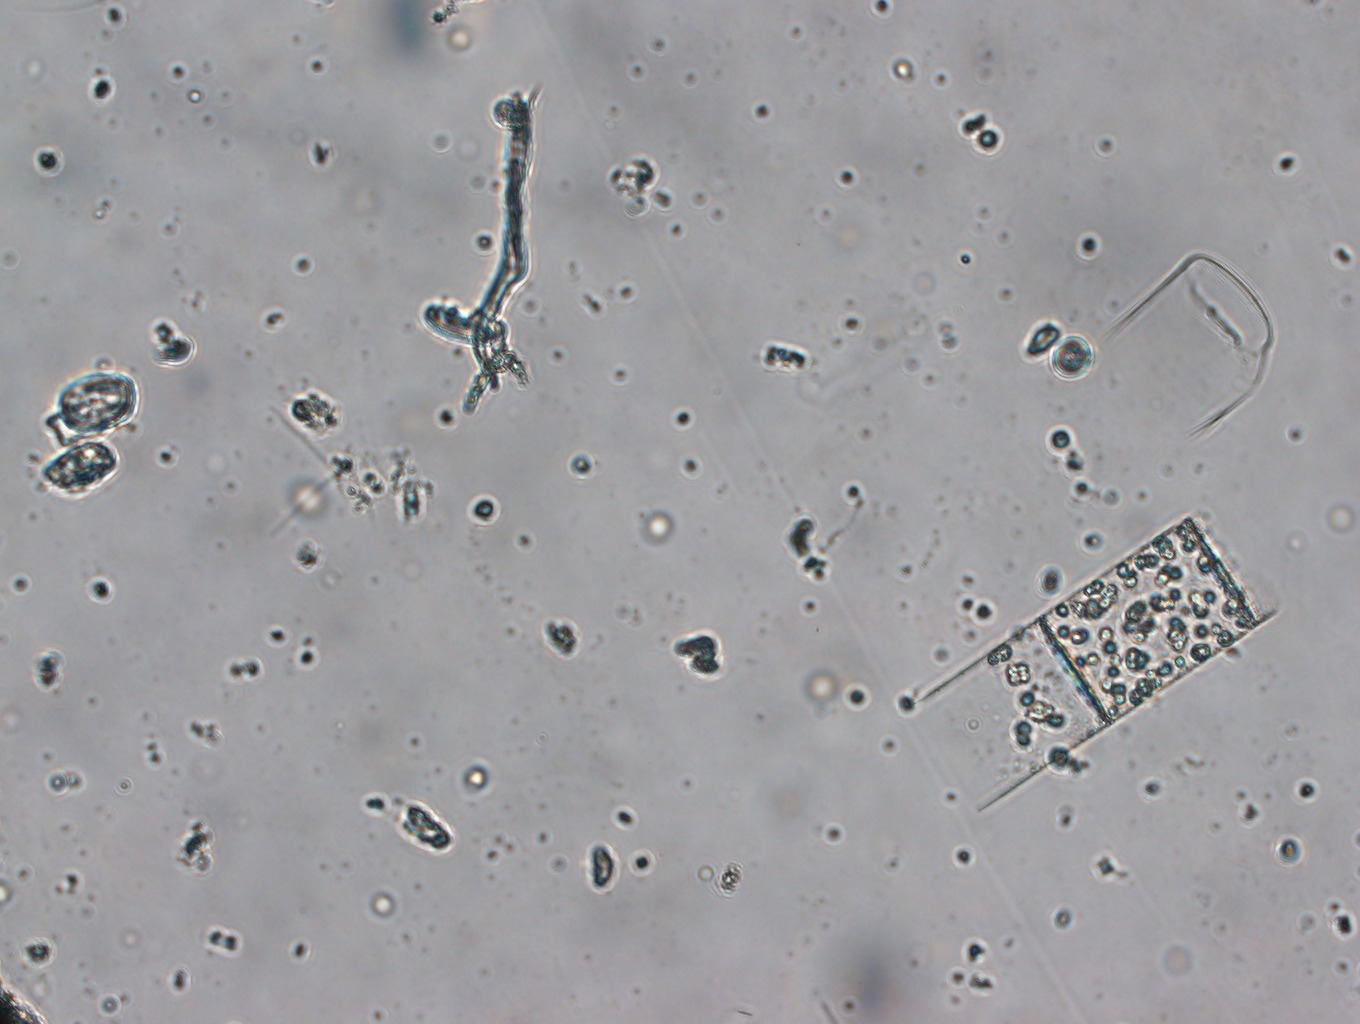guinardia flaccida: (900, 490, 1278, 817)
